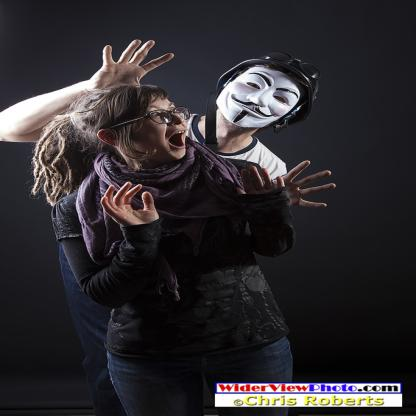Helmet: (201, 52, 318, 149)
